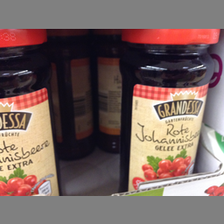jam: (118, 29, 221, 193), (1, 29, 63, 195), (48, 30, 97, 160)
